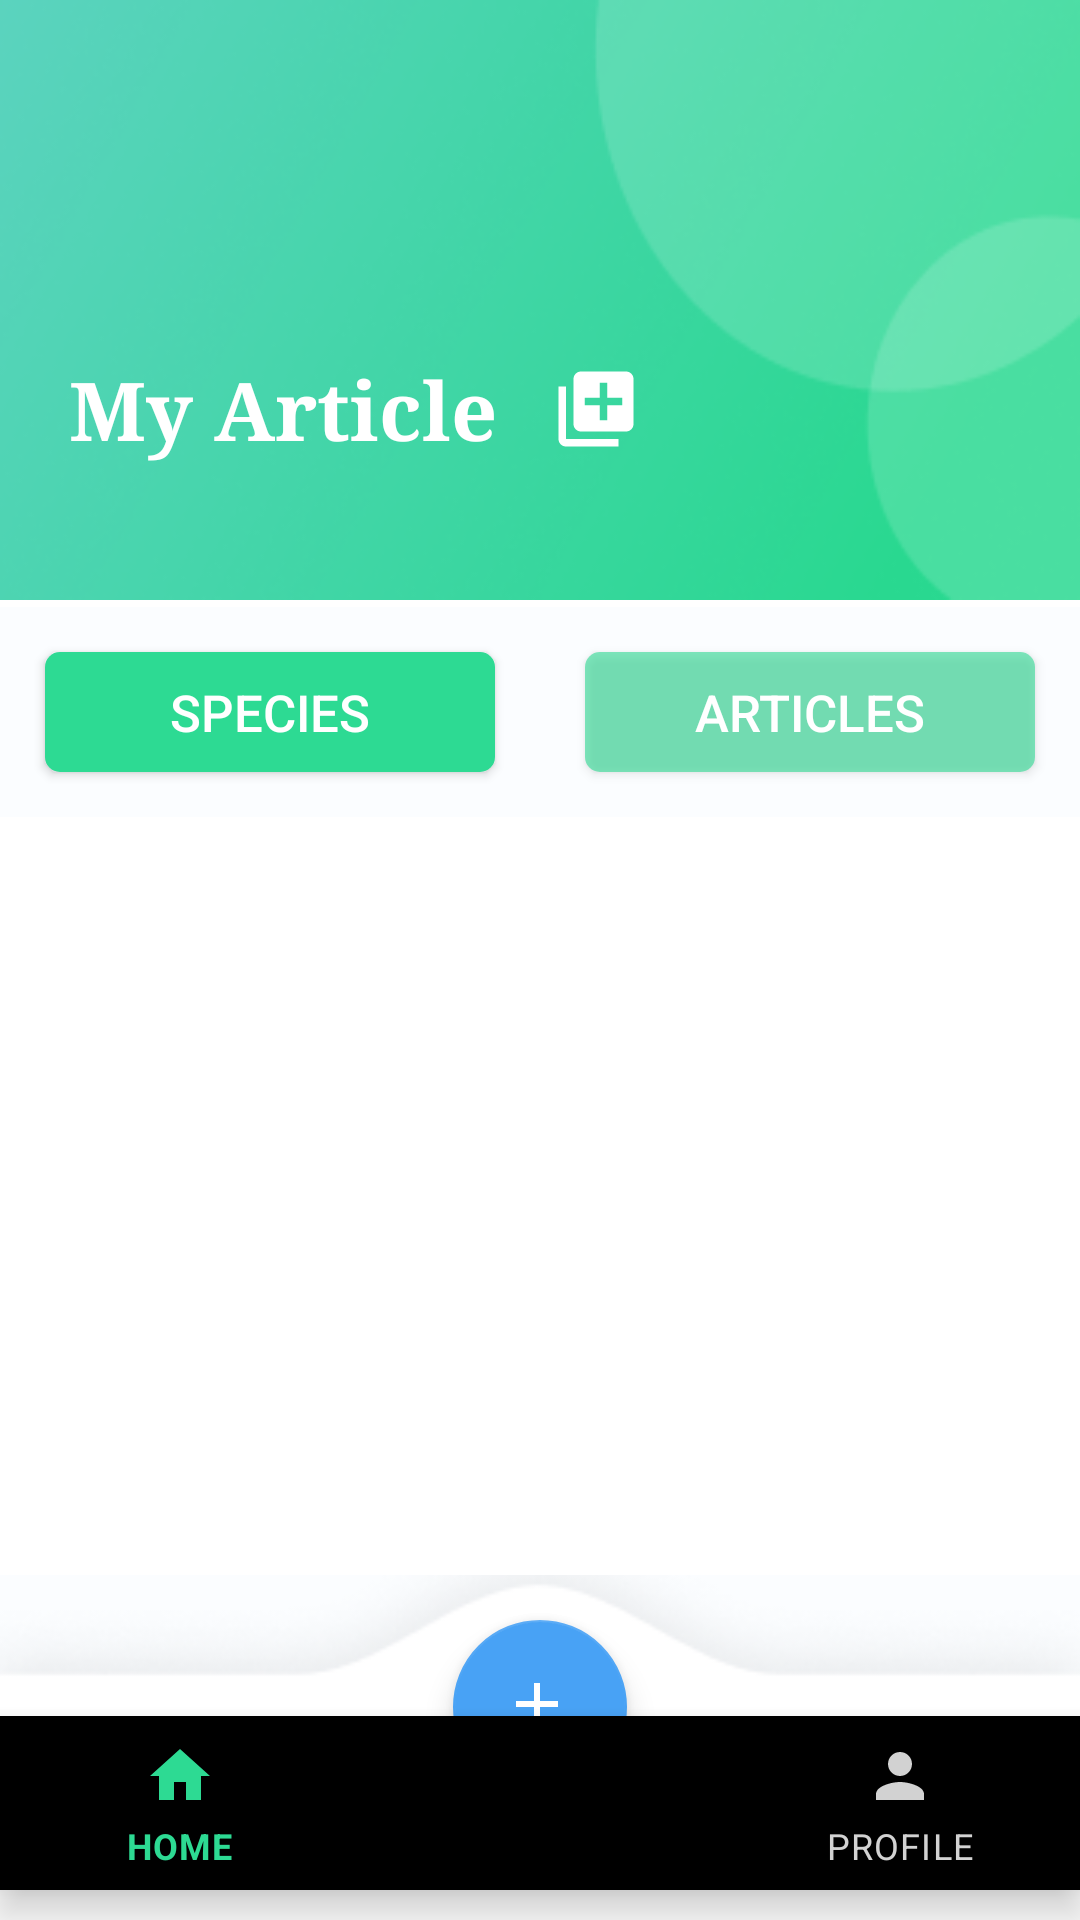

Locate icon controls on the screen. Image size 1080px×1920px, boxes as {"x1": x1, "y1": y1, "x2": x2, "y2": y2}.
add to photos: {"x1": 558, "y1": 371, "x2": 634, "y2": 447}
